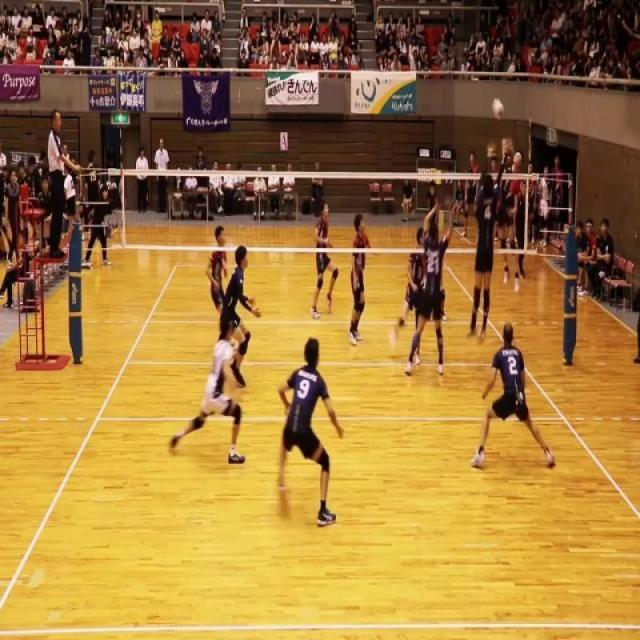volleyball: (491, 96, 505, 121)
